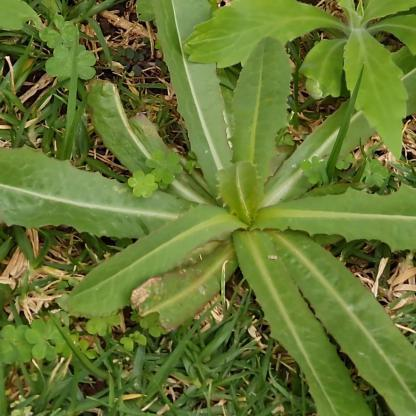Weeds: (2, 3, 415, 415), (179, 0, 415, 163)
